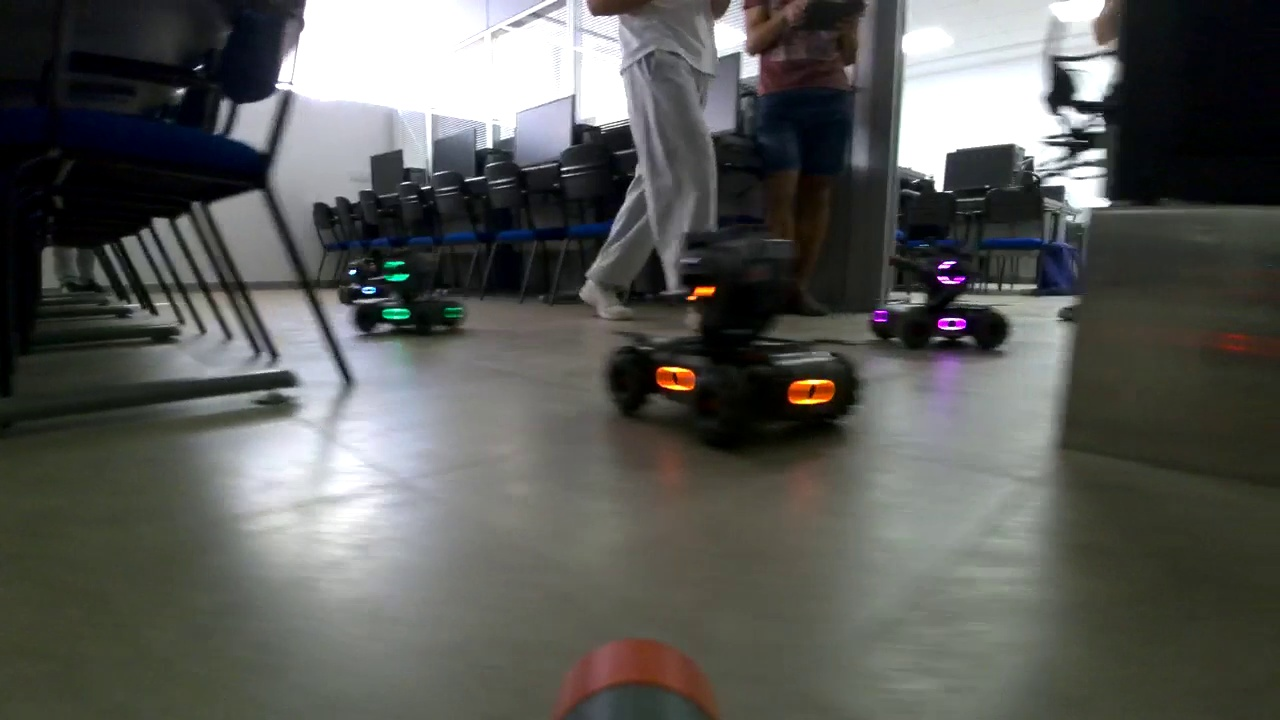robot: (602, 229, 861, 442), (873, 249, 1014, 352), (356, 253, 468, 339), (337, 256, 391, 306)
